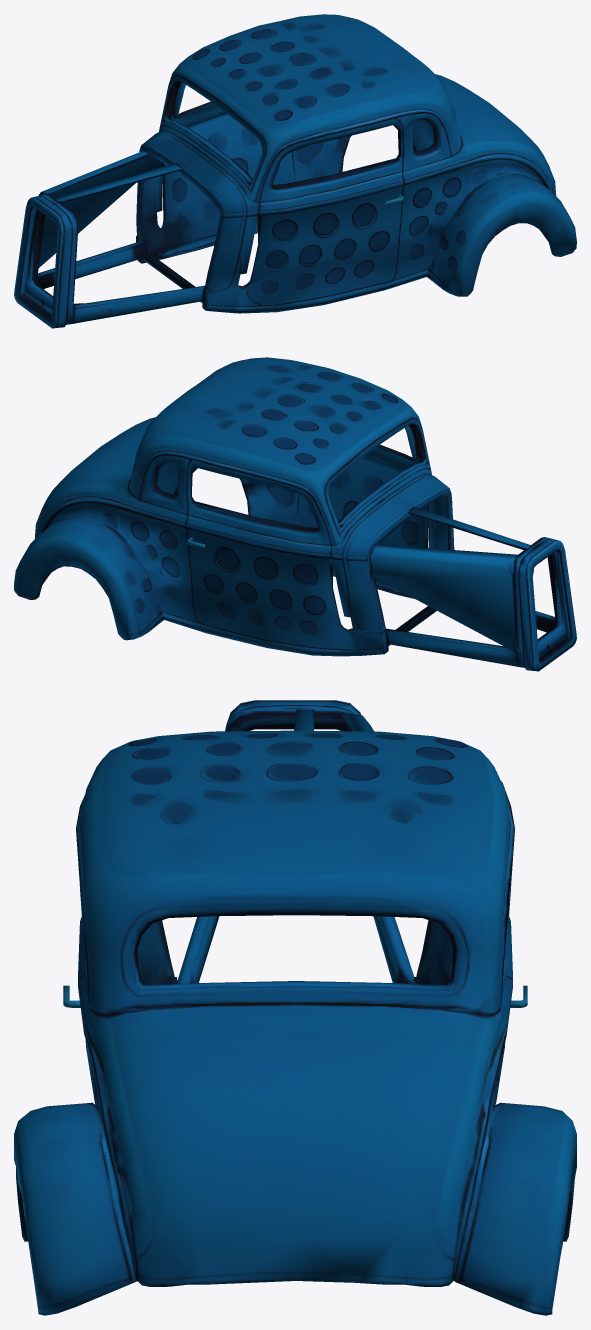
Rendered from donnerbuechse-lightweight_body.glb.
3 renders of one model, top to bottom at view 1: azimuth 30°, elevation 25°; view 2: azimuth 150°, elevation 25°; view 3: azimuth 270°, elevation 25°, orthographic. The views are drawn at different scales.
Parts seen in each view (by area): view 1: tripo_node_d9623acd-851e-4f41-ac7f-c70f96a81c01; view 2: tripo_node_d9623acd-851e-4f41-ac7f-c70f96a81c01; view 3: tripo_node_d9623acd-851e-4f41-ac7f-c70f96a81c01.
Boxes of the visible parts, x1,y1,x2,y2 form: tripo_node_d9623acd-851e-4f41-ac7f-c70f96a81c01: (14, 14, 576, 328); tripo_node_d9623acd-851e-4f41-ac7f-c70f96a81c01: (14, 357, 576, 671); tripo_node_d9623acd-851e-4f41-ac7f-c70f96a81c01: (14, 700, 576, 1315).
Bounding box in the file's own units: 2.2 × 0.8912 × 1.18.
Materials: 1 (1 with a texture image).
